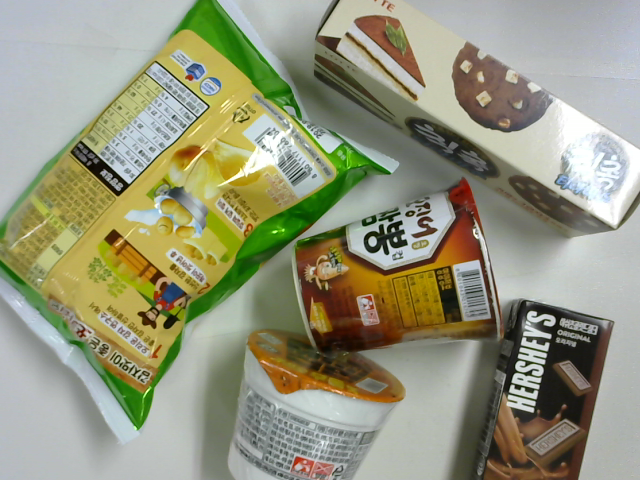Chicchok_Tiramisu: (299, 7, 640, 221)
Hush_Choco_Drink: (467, 294, 613, 480)
Ojjam: (294, 181, 501, 343)
Pocachip_Onion: (1, 14, 390, 421)
Udongmini: (223, 311, 404, 480)
